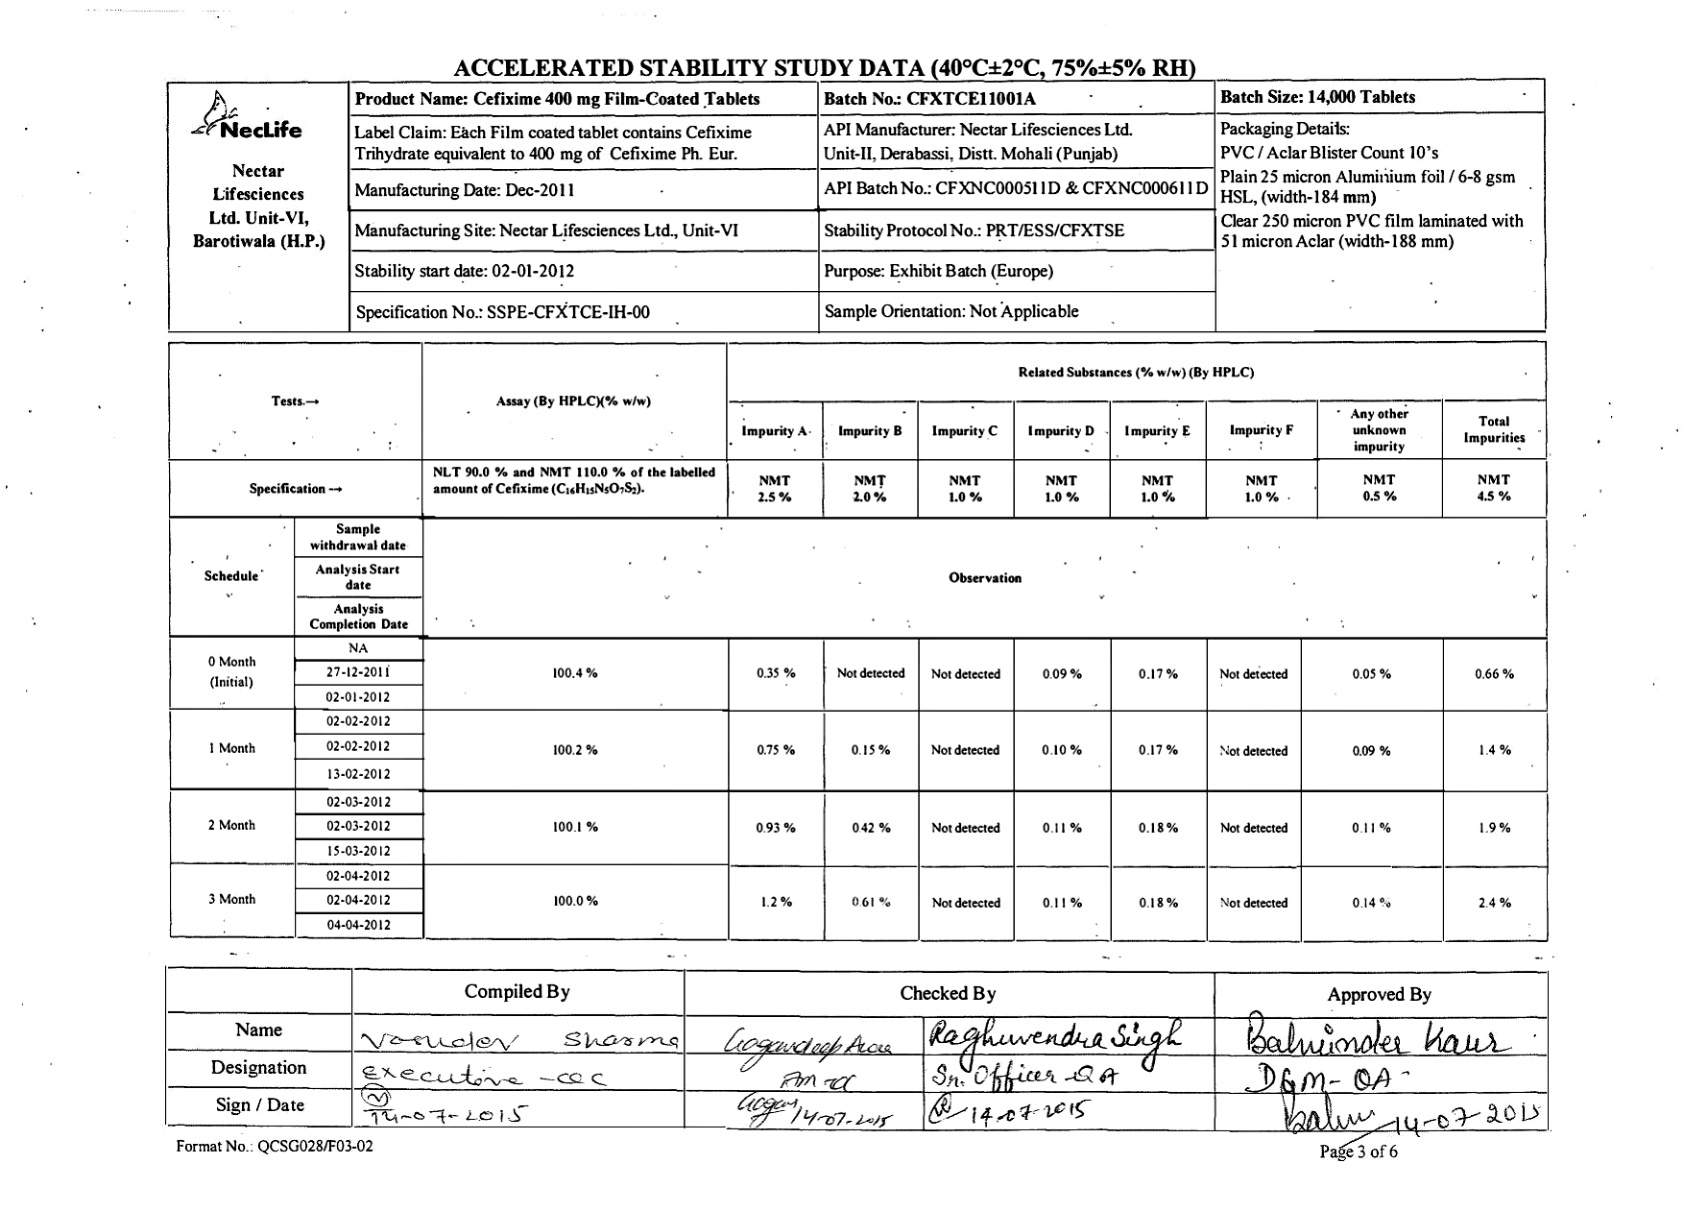full_lined: (162, 964, 1551, 1135)
merged_cells: (166, 339, 1549, 944), (166, 78, 1547, 333)
